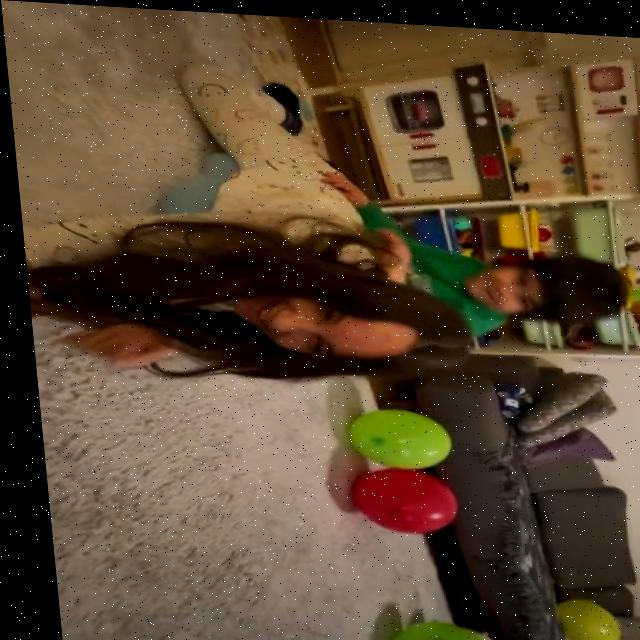balloon: (337, 460, 453, 532), (338, 399, 444, 467), (368, 612, 493, 640)
